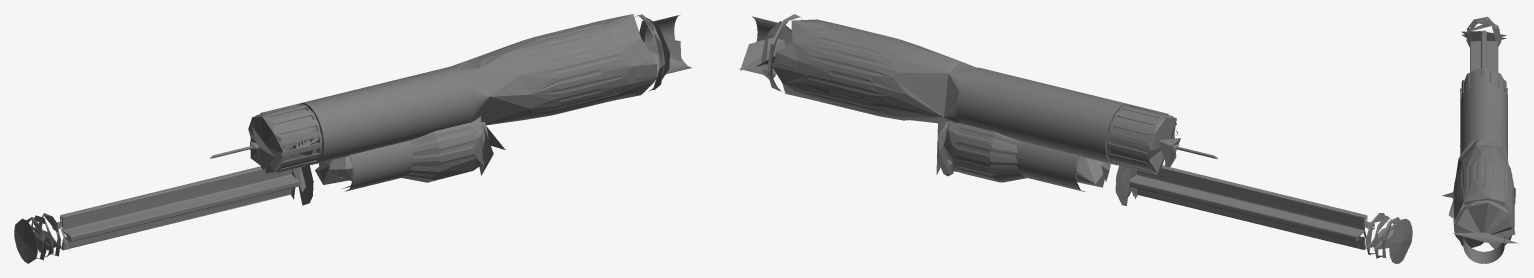
File: device_insulin_lancing_b01.glb
The picture shows the model from 3 angles, left to right: view 1: azimuth 30°, elevation 25°; view 2: azimuth 150°, elevation 25°; view 3: azimuth 270°, elevation 25°; orthographic projection. The views are drawn at different scales.
Parts seen in each view (by area): view 1: geometry_0; view 2: geometry_0; view 3: geometry_0.
Boxes of the visible parts, bbox=[...] form: geometry_0: bbox=[14, 14, 692, 263]; geometry_0: bbox=[739, 14, 1412, 263]; geometry_0: bbox=[1442, 16, 1518, 263].
Size of the model in its own units: 0.42 by 0.0684 by 0.0565.
1 material, 1 textured.
